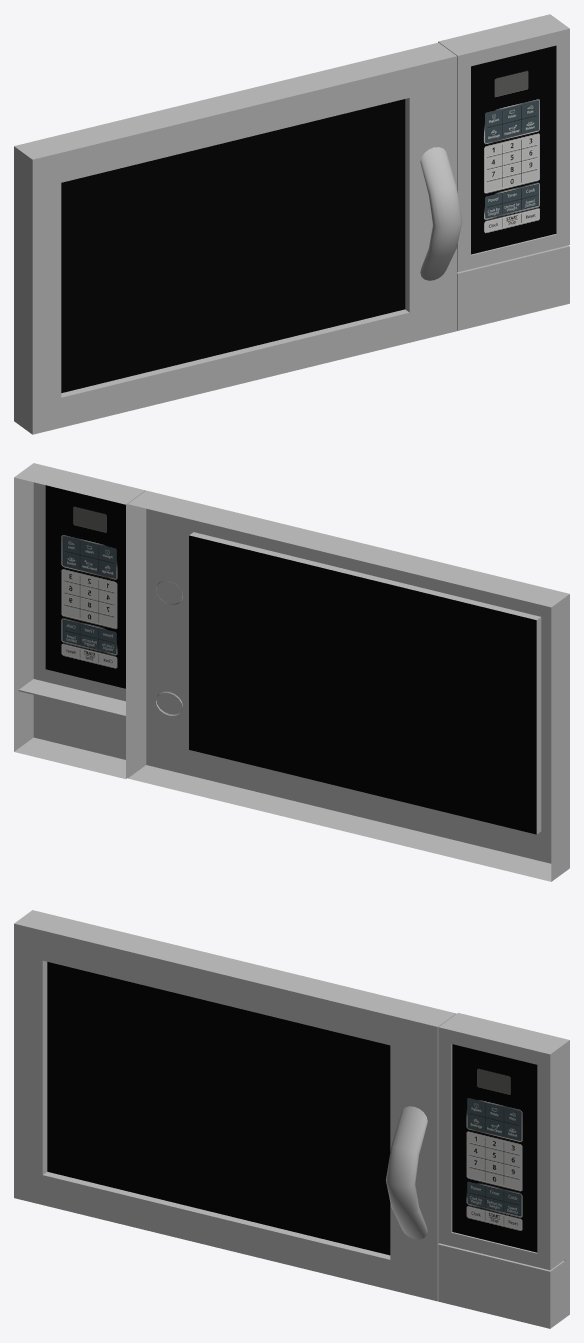
Rendered from Finalized_microwave.fbx.
3 renders of one model, top to bottom at view 1: azimuth 30°, elevation 25°; view 2: azimuth 150°, elevation 25°; view 3: azimuth 330°, elevation 25°, orthographic.
Parts seen in each view (by area): view 1: microwave1, handle; view 2: microwave1; view 3: microwave1, handle.
Boxes of the visible parts, x1,y1,x2,y2 form: microwave1: (14, 14, 569, 434); handle: (420, 147, 462, 280); microwave1: (14, 463, 569, 881); microwave1: (14, 910, 569, 1328); handle: (385, 1106, 427, 1239).
Bounding box in the file's own units: 95.36 × 46.64 × 11.83.
